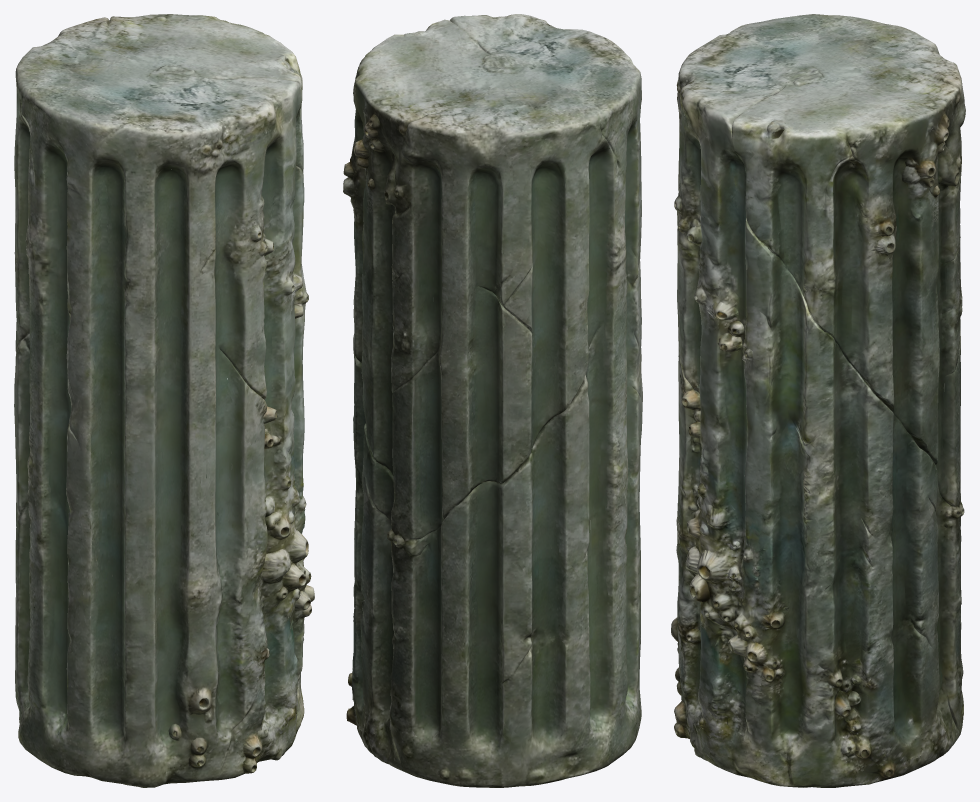
File: T18_shaft.glb
3 views of the same model, side by side, from view 1: azimuth 30°, elevation 25°; view 2: azimuth 150°, elevation 25°; view 3: azimuth 270°, elevation 25° (orthographic).
Parts seen in each view (by area): view 1: tripo_node_960f94f6-96f3-4837-86c4-864c579a4a5d; view 2: tripo_node_960f94f6-96f3-4837-86c4-864c579a4a5d; view 3: tripo_node_960f94f6-96f3-4837-86c4-864c579a4a5d.
Boxes of the visible parts, x1,y1,x2,y2 form: tripo_node_960f94f6-96f3-4837-86c4-864c579a4a5d: (14, 14, 314, 787); tripo_node_960f94f6-96f3-4837-86c4-864c579a4a5d: (343, 14, 642, 787); tripo_node_960f94f6-96f3-4837-86c4-864c579a4a5d: (671, 14, 965, 787).
Bounding box in the file's own units: 0.3968 × 0.9778 × 0.3966.
Materials: 1 (1 with a texture image).
